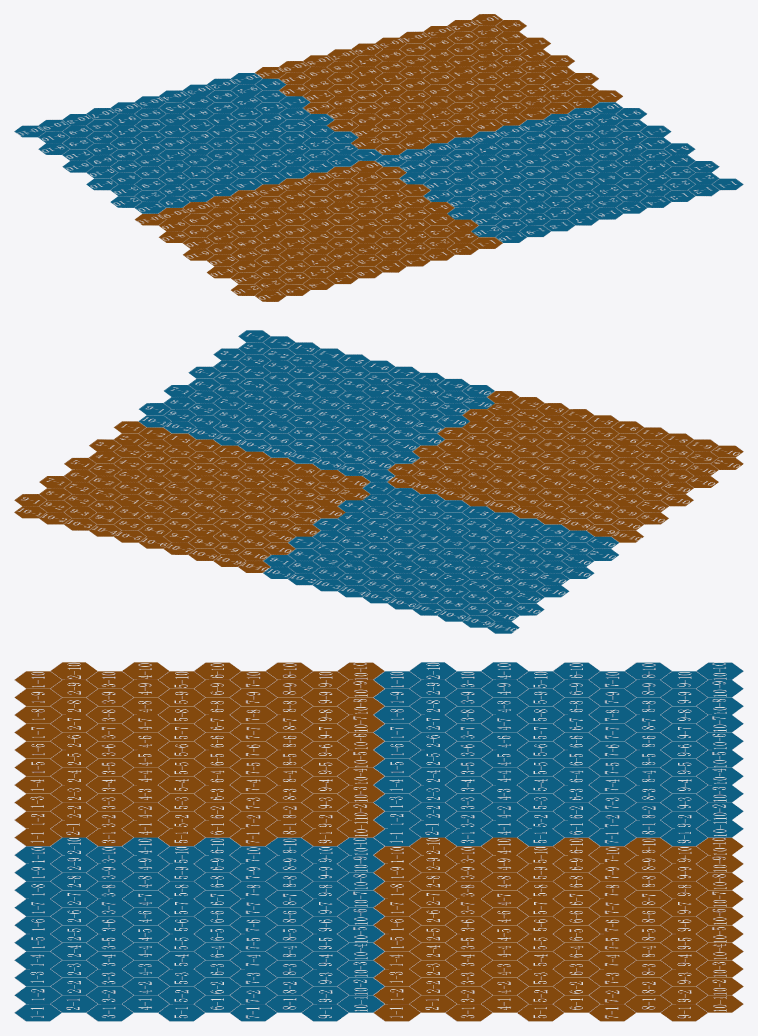
The picture shows the model from 3 angles, top to bottom: view 1: azimuth 30°, elevation 25°; view 2: azimuth 150°, elevation 25°; view 3: azimuth 270°, elevation 25°; orthographic projection. The views are drawn at different scales.
Parts seen in each view (by area): view 1: XX2; view 2: XX2; view 3: XX2.
Boxes of the visible parts, x1,y1,x2,y2 form: XX2: (14, 14, 743, 301); XX2: (14, 330, 743, 633); XX2: (14, 662, 743, 1021).
Bounding box in the file's own units: 1775 × 0.00137 × 1525.
Materials: 2 (2 with a texture image).
